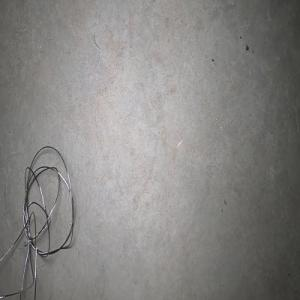Wire: (0, 146, 74, 300)
